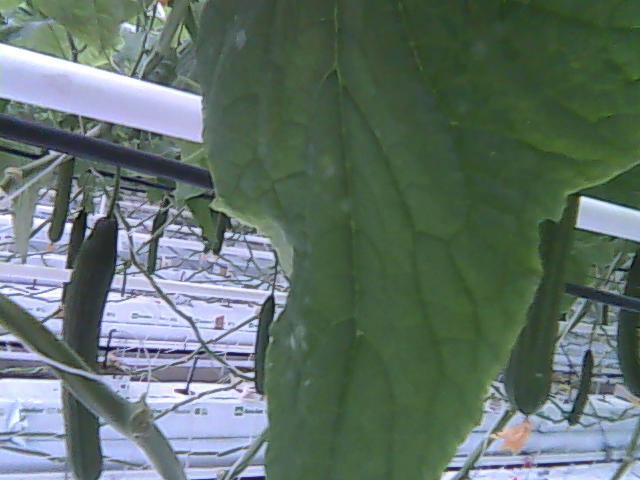concombre: (487, 175, 585, 457), (57, 208, 123, 480)
